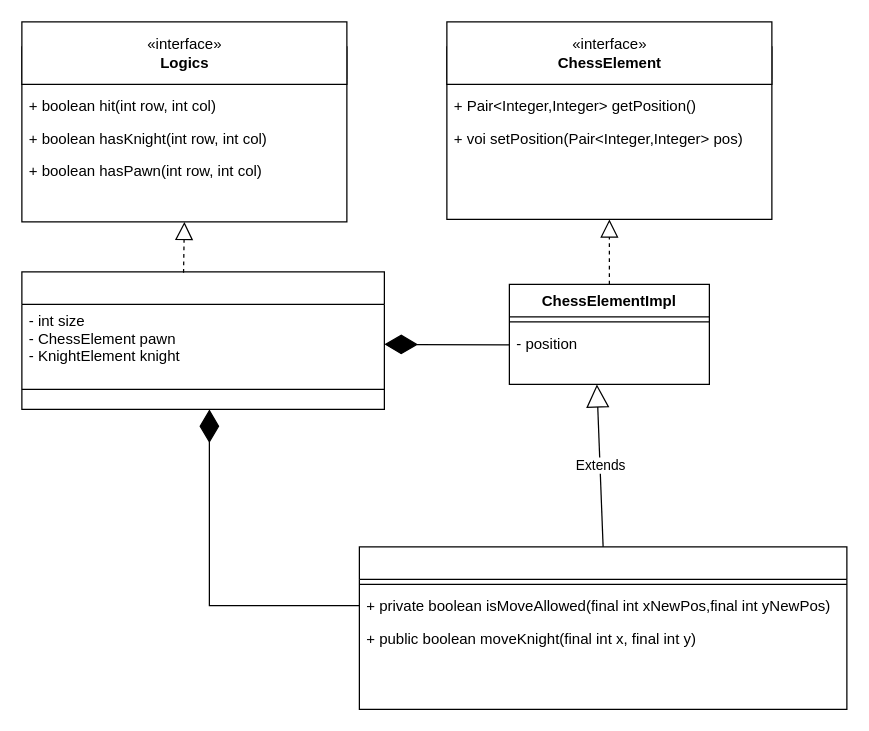
Image size: 869x731. Some labels were removed from this diagram. Each missing label, with the box of its shape:
KnightElementImpl: (358, 546, 847, 709)
LogicsImpl: (21, 271, 384, 409)
